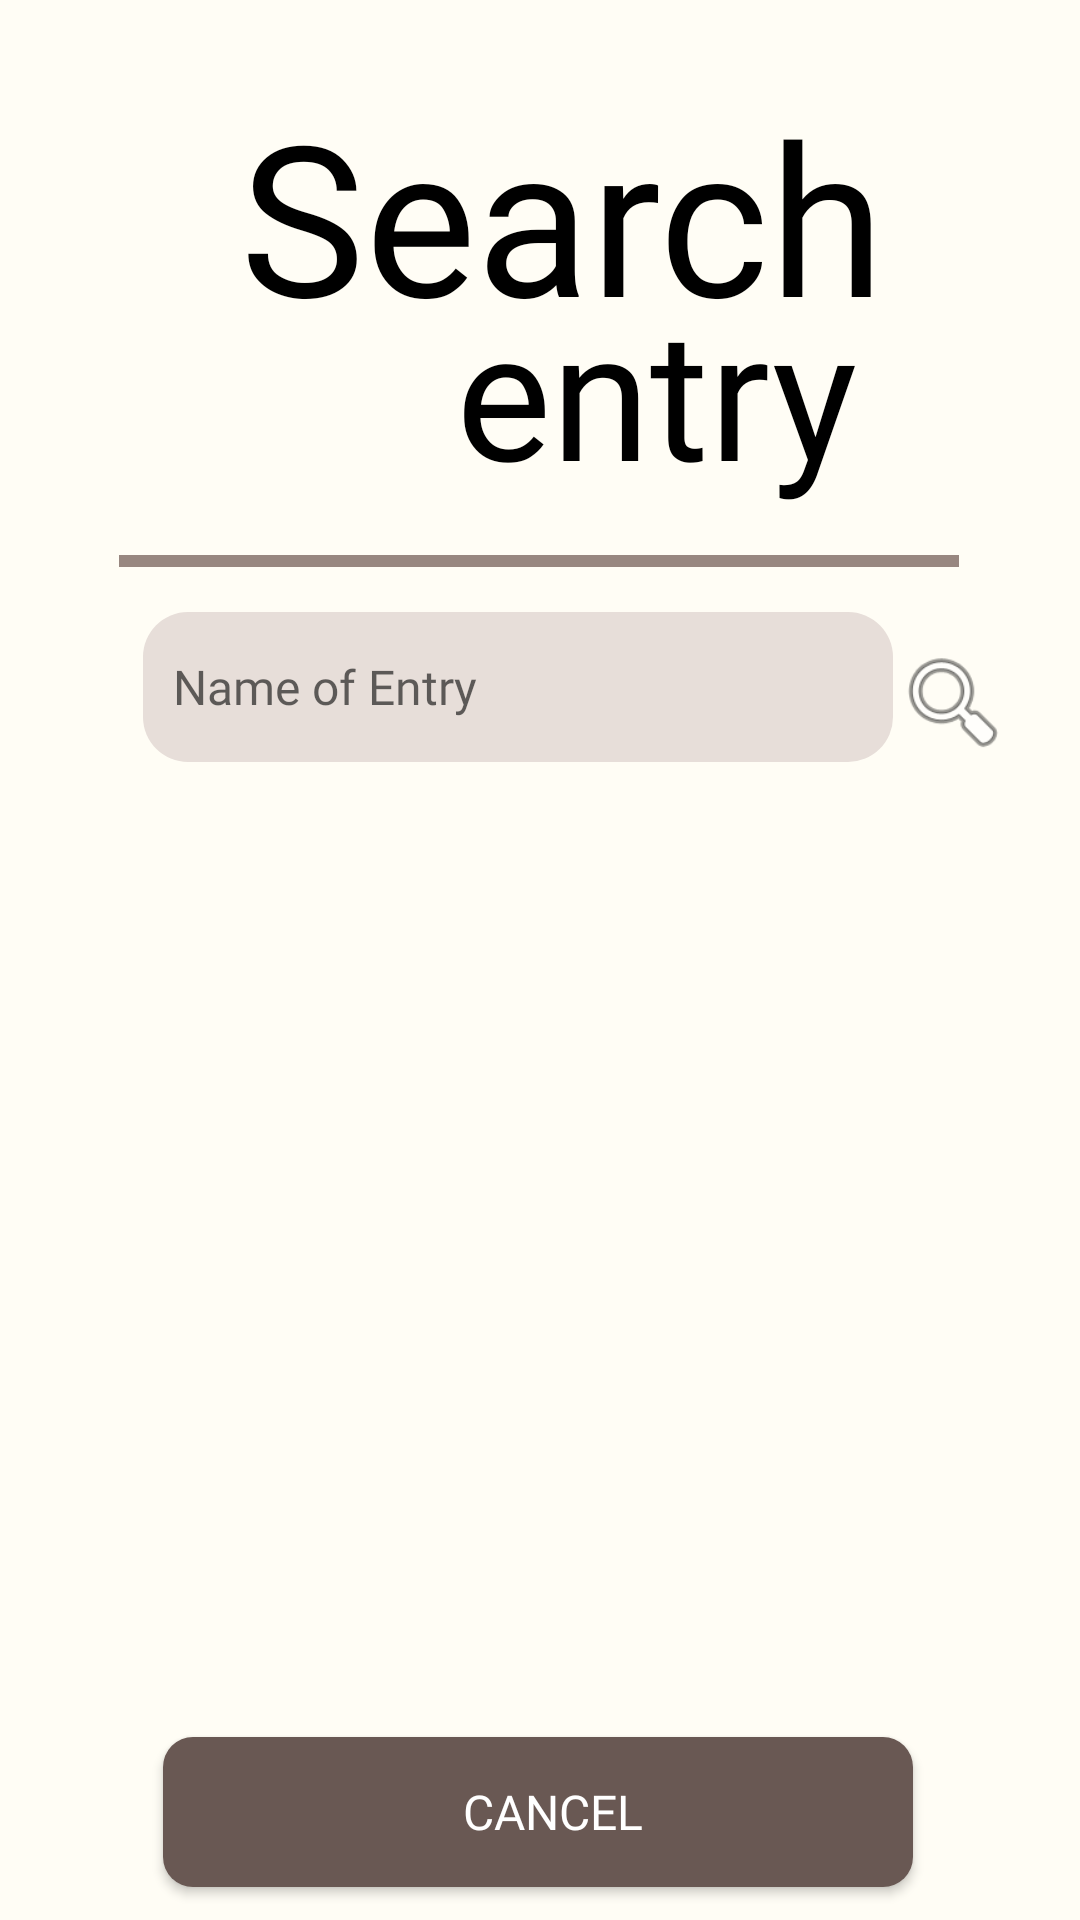

Locate icon controls on the screen. Image size 1080x1920, boxes as (x1, y1, x2, y2).
search: (908, 658, 997, 747)
